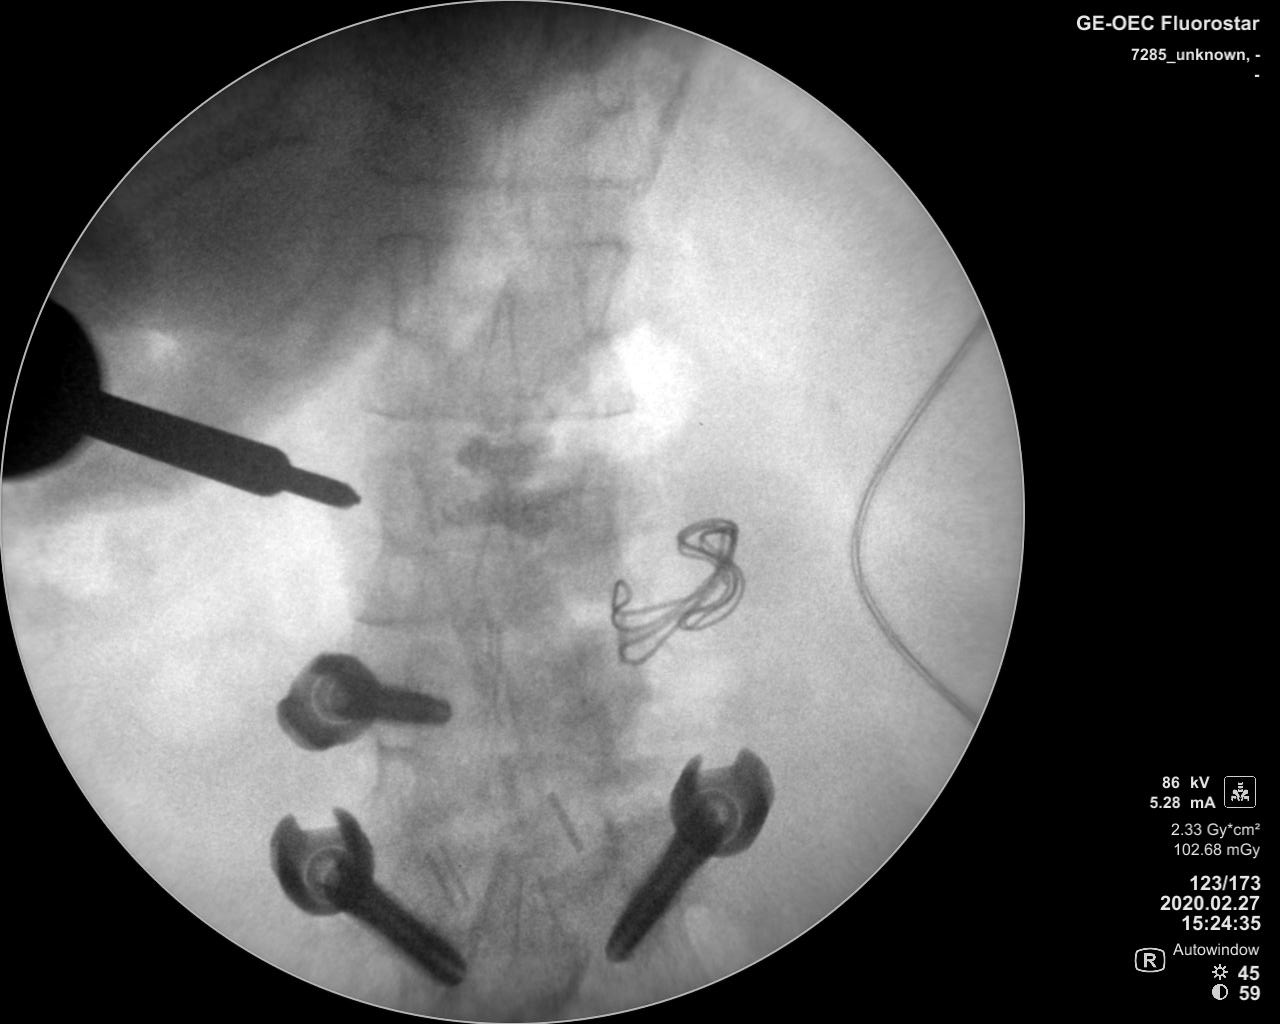eyes: (382, 229, 433, 340), (370, 452, 426, 543), (572, 238, 616, 335)
line: (373, 162, 649, 197), (360, 392, 639, 423), (376, 225, 635, 254)
nose: (501, 863, 579, 1010), (473, 284, 527, 445), (472, 479, 517, 633), (478, 667, 523, 770)
